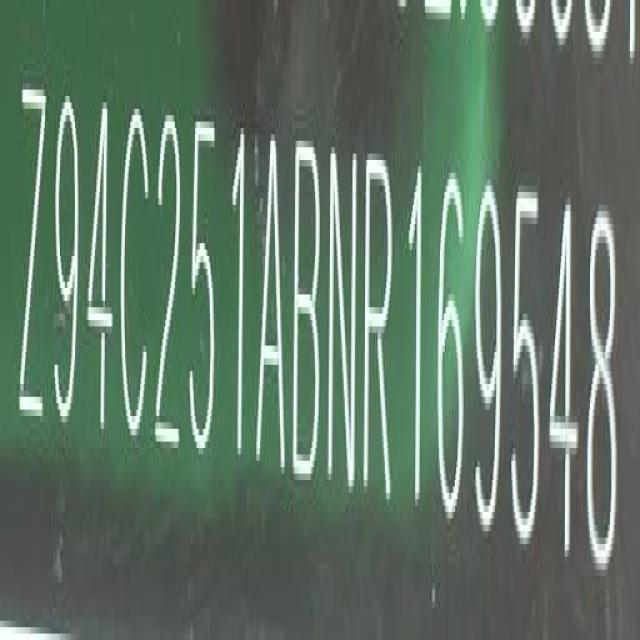1: (408, 150, 427, 522), (230, 120, 246, 473)
2: (153, 104, 181, 462)
4: (550, 191, 582, 568), (88, 91, 116, 445)
5: (511, 180, 543, 562), (191, 104, 219, 466)
6: (436, 161, 466, 524)
8: (589, 199, 623, 576)
9: (473, 173, 505, 540), (51, 81, 80, 436)
A: (258, 124, 286, 478)
B: (294, 130, 324, 488)
C: (118, 95, 151, 460)
N: (329, 139, 358, 495)
R: (365, 141, 396, 507)
Z: (18, 78, 48, 436)
